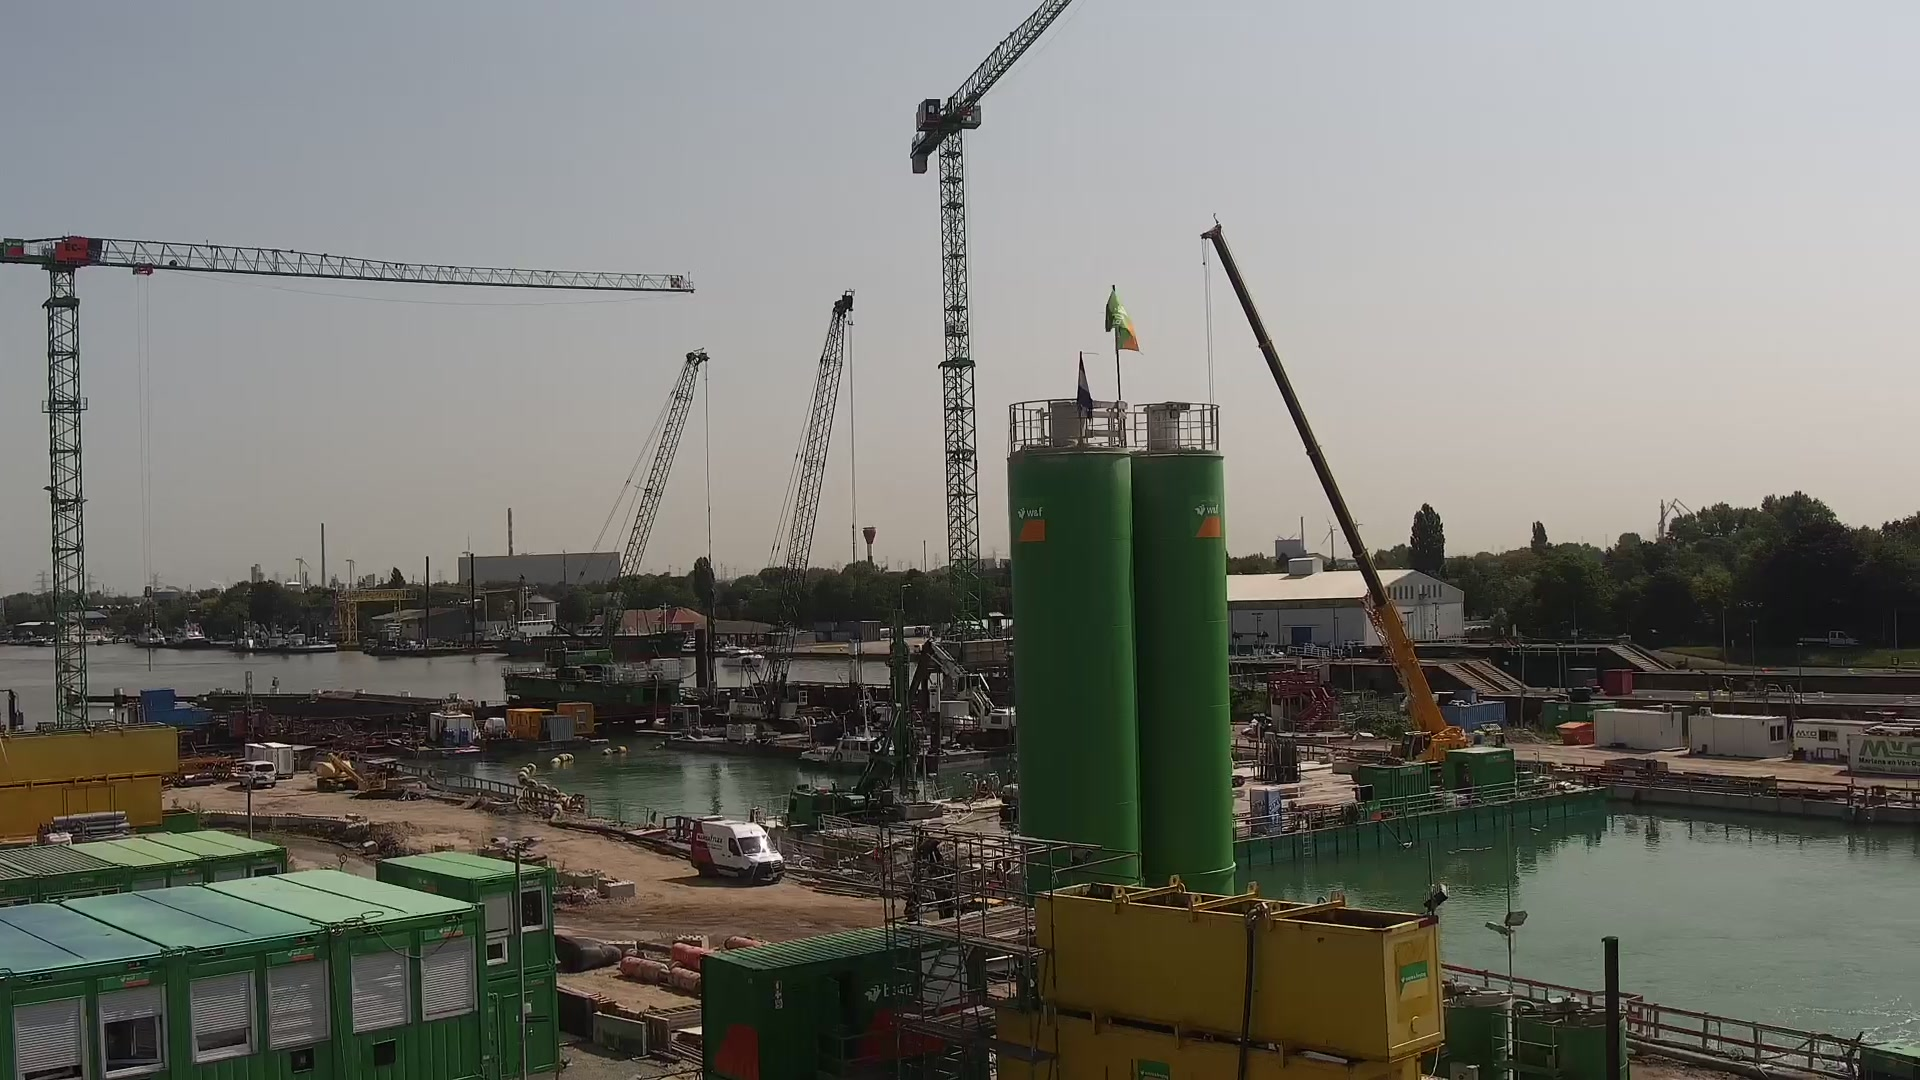land: (690, 815, 786, 886), (237, 761, 277, 789), (1826, 629, 1858, 640)
sea: (504, 612, 688, 659), (798, 687, 897, 767), (164, 615, 211, 650), (132, 605, 165, 647), (721, 644, 765, 667)
